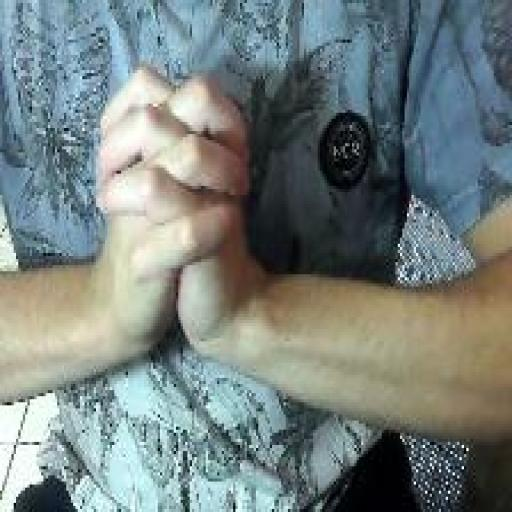Mi -snake-: (92, 61, 255, 366)
